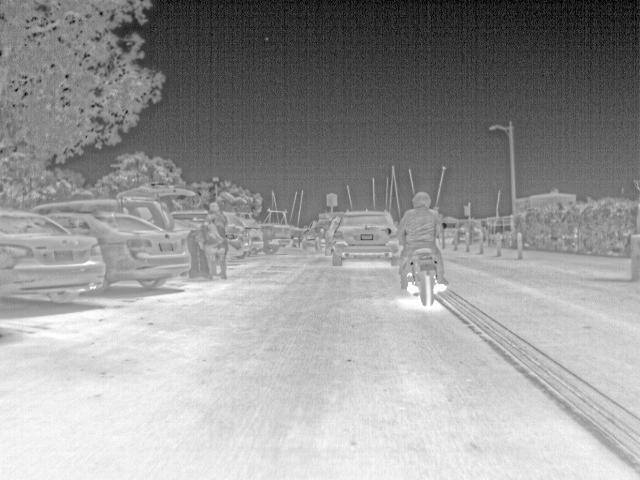car: (46, 208, 191, 293), (1, 207, 104, 304), (34, 183, 196, 230), (332, 208, 397, 266), (301, 218, 332, 252), (259, 223, 291, 255), (239, 223, 263, 253), (326, 214, 342, 248)
person: (396, 191, 445, 285), (206, 200, 232, 278)
